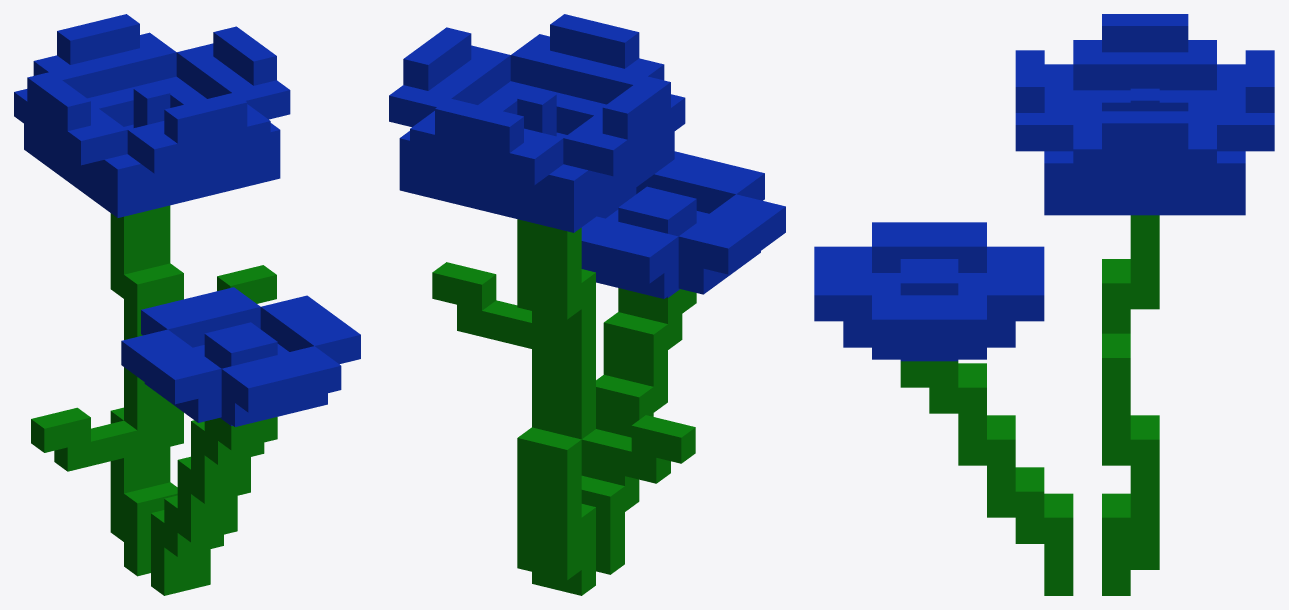
File: blue wide flower.fbx
3 renders of one model, left to right at view 1: azimuth 30°, elevation 25°; view 2: azimuth 150°, elevation 25°; view 3: azimuth 270°, elevation 25°, orthographic. The views are drawn at different scales.
Parts seen in each view (by area): view 1: Untitled; view 2: Untitled; view 3: Untitled.
Part boxes in pixels (box(x1,y1,x2,y2)): Untitled: box(14, 14, 360, 595); Untitled: box(389, 14, 785, 595); Untitled: box(814, 14, 1274, 595).
Size of the model in its own units: 100 by 200 by 160.
